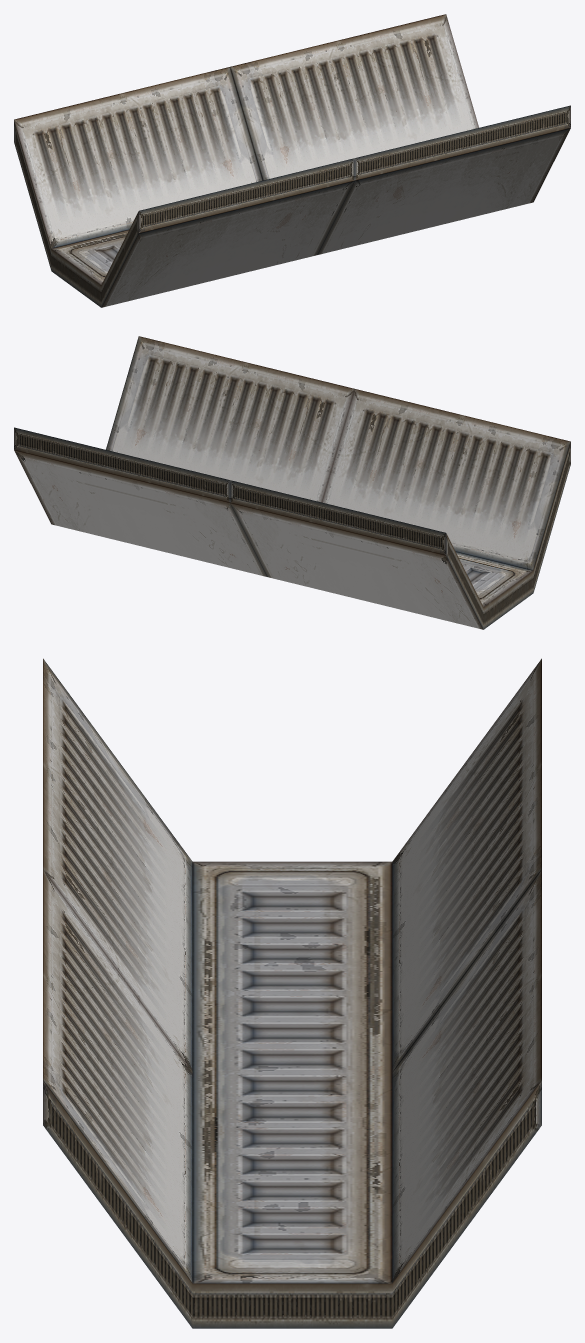
The model's file is scifi_pit_2.FBX.
The picture shows the model from 3 angles, top to bottom: view 1: azimuth 30°, elevation 25°; view 2: azimuth 150°, elevation 25°; view 3: azimuth 270°, elevation 25°; orthographic projection. The views are drawn at different scales.
Parts seen in each view (by area): view 1: Plane084; view 2: Plane084; view 3: Plane084.
Boxes of the visible parts, <box> form: Plane084: <box>14,14,570,307</box>; Plane084: <box>14,336,570,629</box>; Plane084: <box>43,658,541,1328</box>.
Size of the model in its own units: 508 by 140 by 254.
